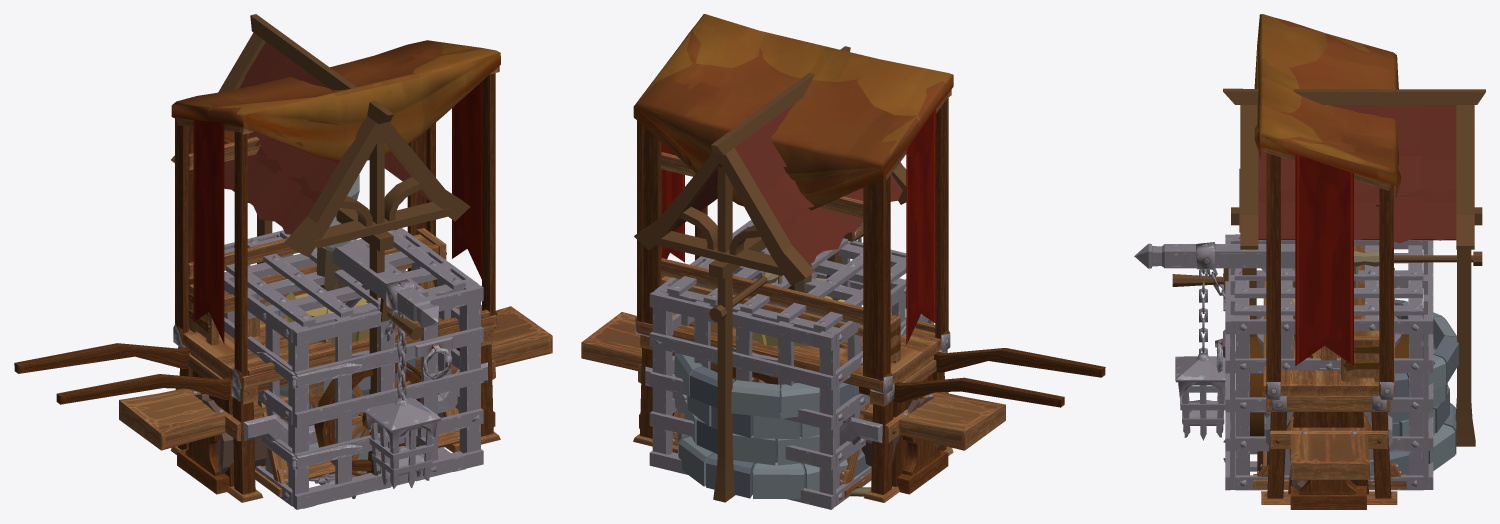
Rendered from props.glb.
3 renders of one model, left to right at view 1: azimuth 30°, elevation 25°; view 2: azimuth 150°, elevation 25°; view 3: azimuth 270°, elevation 25°, orthographic. The views are drawn at different scales.
Visible parts, largest first — view 1: Cage_Mesh, Market_Stall_Mesh, Market_Cart_Mesh, Well_Mesh, Bench_Mesh, Lantern_Wall_Mesh, Weapon_Rack_Mesh, Log_Mesh, Torch_Standing_Mesh, Hay_Mesh; view 2: Market_Stall_Mesh, Well_Mesh, Market_Cart_Mesh, Cage_Mesh, Bench_Mesh, Weapon_Rack_Mesh; view 3: Well_Mesh, Market_Stall_Mesh, Cage_Mesh, Market_Cart_Mesh, Lantern_Wall_Mesh, Bench_Mesh, Weapon_Rack_Mesh.
Boxes of the visible parts, x1,y1,x2,y2 form: Cage_Mesh: (224, 209, 483, 509); Market_Stall_Mesh: (170, 40, 500, 502); Market_Cart_Mesh: (14, 40, 500, 486); Well_Mesh: (171, 14, 470, 477); Bench_Mesh: (119, 306, 552, 494); Lantern_Wall_Mesh: (332, 242, 441, 488); Weapon_Rack_Mesh: (247, 262, 459, 497); Log_Mesh: (194, 394, 459, 473); Torch_Standing_Mesh: (316, 175, 359, 291); Hay_Mesh: (285, 292, 369, 343); Market_Stall_Mesh: (633, 26, 953, 502); Well_Mesh: (634, 46, 906, 502); Market_Cart_Mesh: (633, 14, 1105, 486); Cage_Mesh: (649, 220, 933, 509); Bench_Mesh: (581, 312, 1005, 494); Weapon_Rack_Mesh: (672, 336, 871, 497); Well_Mesh: (1172, 88, 1485, 475); Market_Stall_Mesh: (1259, 17, 1401, 504); Cage_Mesh: (1215, 234, 1435, 490); Market_Cart_Mesh: (1250, 14, 1408, 494); Lantern_Wall_Mesh: (1134, 242, 1295, 440); Bench_Mesh: (1290, 415, 1370, 509); Weapon_Rack_Mesh: (1253, 345, 1406, 488).
Size of the model in its own units: 3.5 by 2.91 by 2.25.
16 materials, 5 textured.
